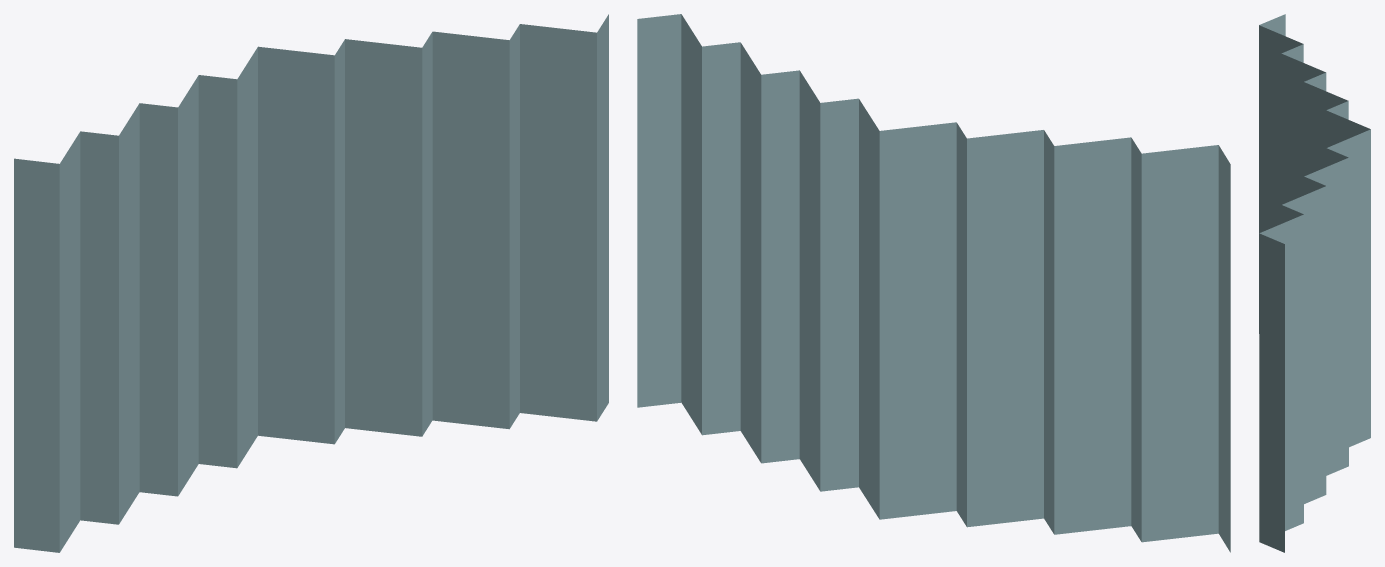
File: Wall_Complete.FBX
3 renders of one model, left to right at view 1: azimuth 30°, elevation 25°; view 2: azimuth 150°, elevation 25°; view 3: azimuth 270°, elevation 25°, orthographic. The views are drawn at different scales.
Parts seen in each view (by area): view 1: back_wall_v2; view 2: back_wall_v2; view 3: back_wall_v2.
Boxes of the visible parts, x1=… form: back_wall_v2: x1=14, y1=14, x2=608, y2=552; back_wall_v2: x1=637, y1=14, x2=1230, y2=552; back_wall_v2: x1=1259, y1=14, x2=1370, y2=552.
Size of the model in its own units: 554 by 114 by 346.
